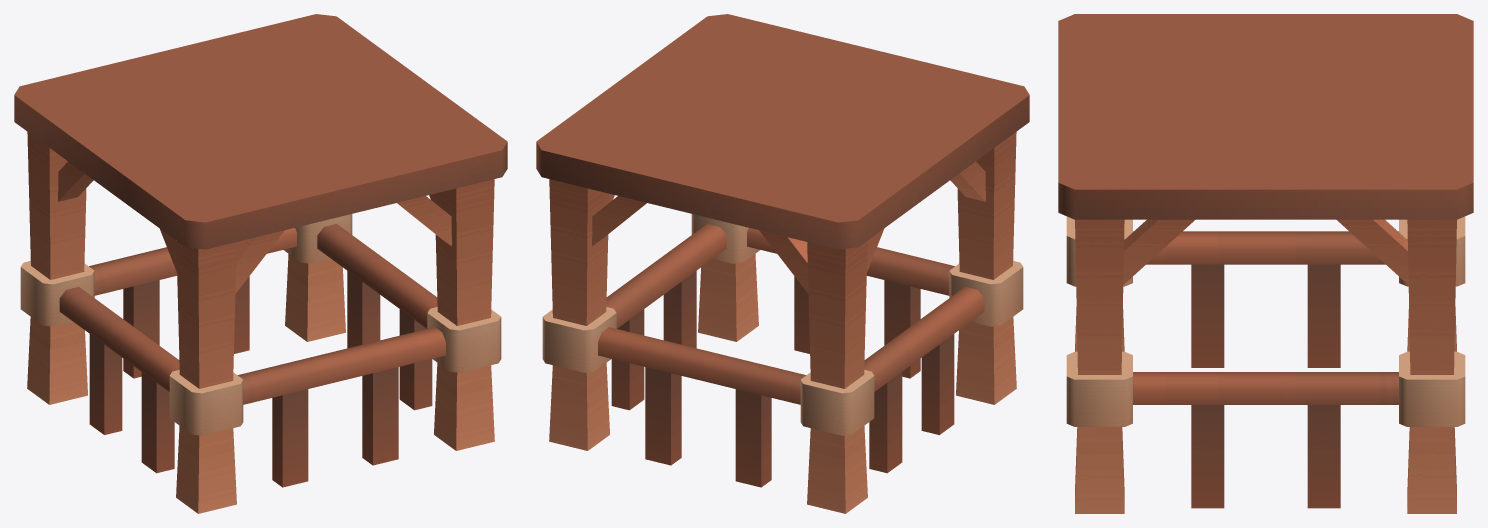
Rendered from structure-fence-sides.glb.
3 views of the same model, side by side, from view 1: azimuth 30°, elevation 25°; view 2: azimuth 150°, elevation 25°; view 3: azimuth 270°, elevation 25° (orthographic). The views are drawn at different scales.
Parts seen in each view (by area): view 1: structure-fence-sides, Group; view 2: structure-fence-sides, Group; view 3: structure-fence-sides.
Boxes of the visible parts, x1,y1,x2,y2 form: structure-fence-sides: (14, 14, 507, 513); Group: (89, 228, 445, 487); structure-fence-sides: (536, 14, 1029, 513); Group: (598, 228, 954, 487); structure-fence-sides: (1058, 14, 1473, 513).
Bounding box in the file's own units: 2.5 × 2.2 × 2.5.
1 material, 1 textured.
